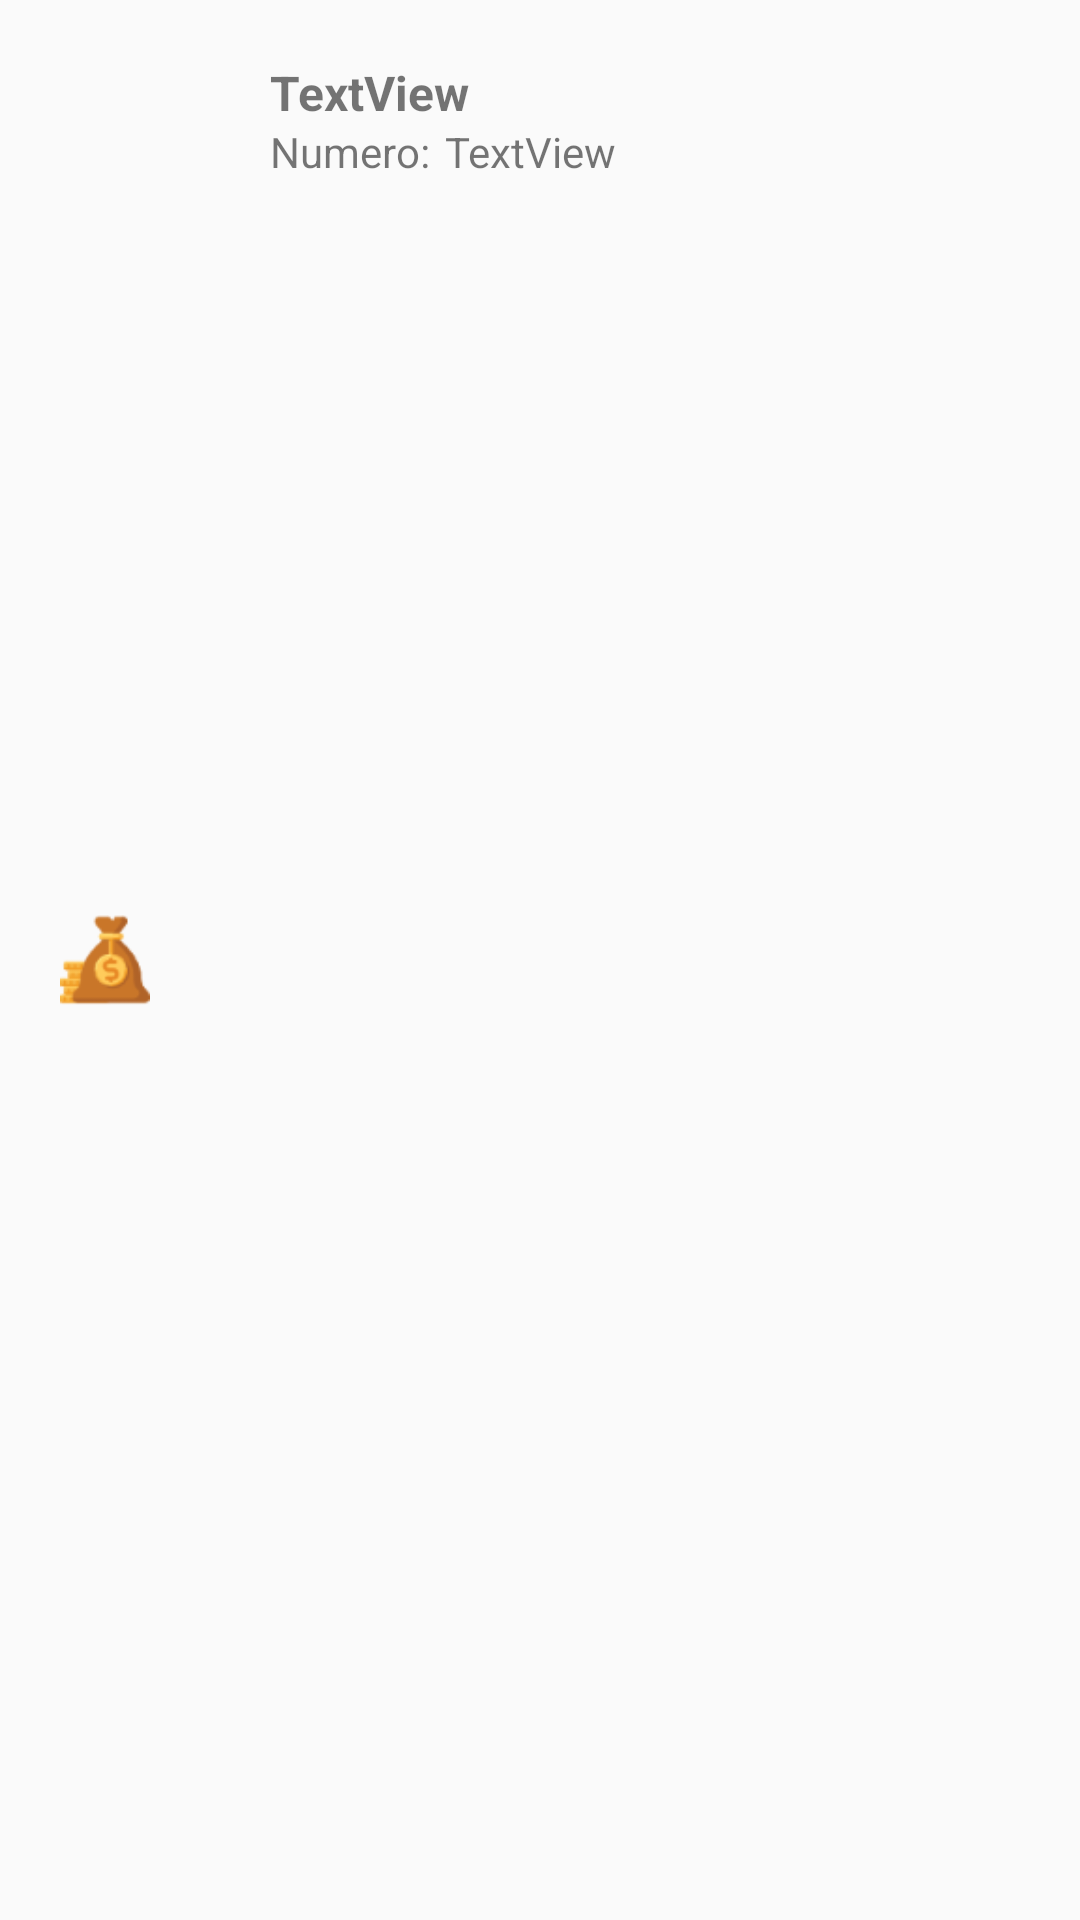

Locate icon controls on the screen. Image size 1080*1920, boxes as (x1, y1, x2, y2).
debito: (60, 915, 150, 1004)
